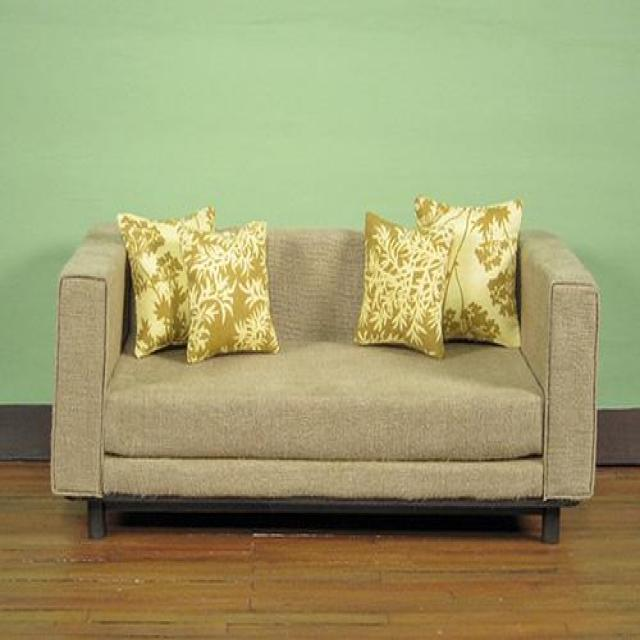sofa: (49, 213, 599, 544)
